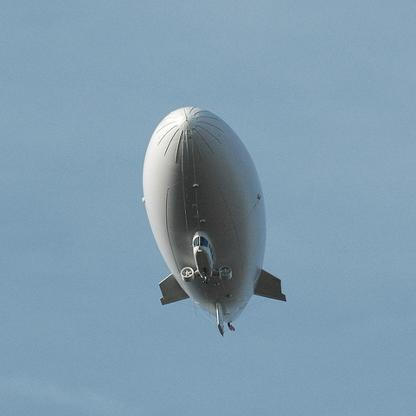Airship: (142, 103, 290, 336)
